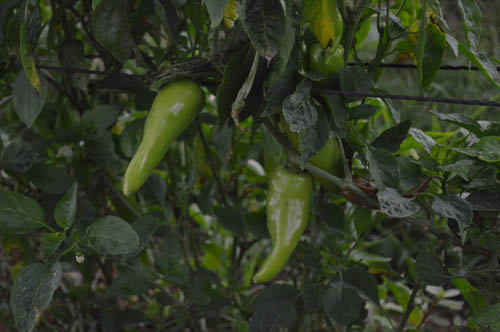ChiliPepper: (122, 84, 205, 192), (252, 169, 311, 281), (294, 123, 343, 170), (306, 45, 342, 83)
